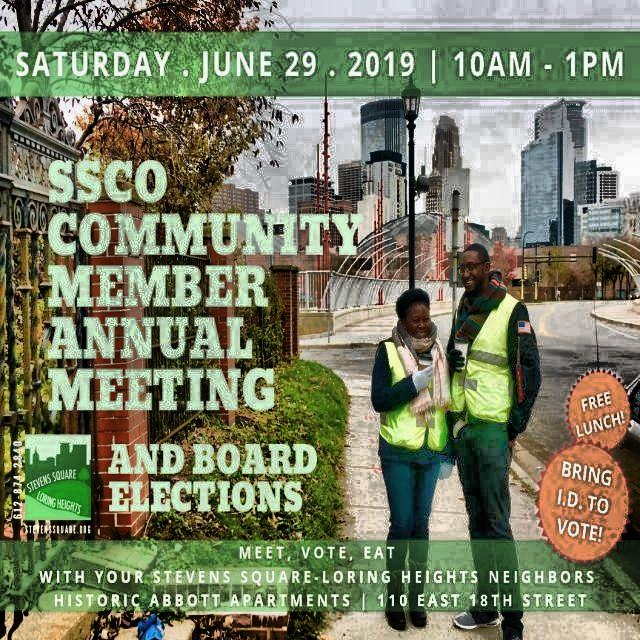safety_jacket: (461, 295, 518, 422), (376, 342, 432, 450)
